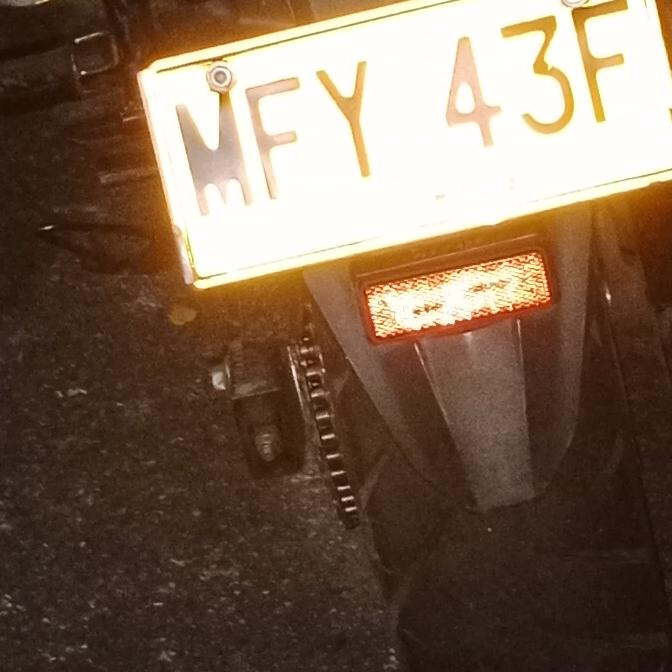plates: (121, 0, 672, 288)
